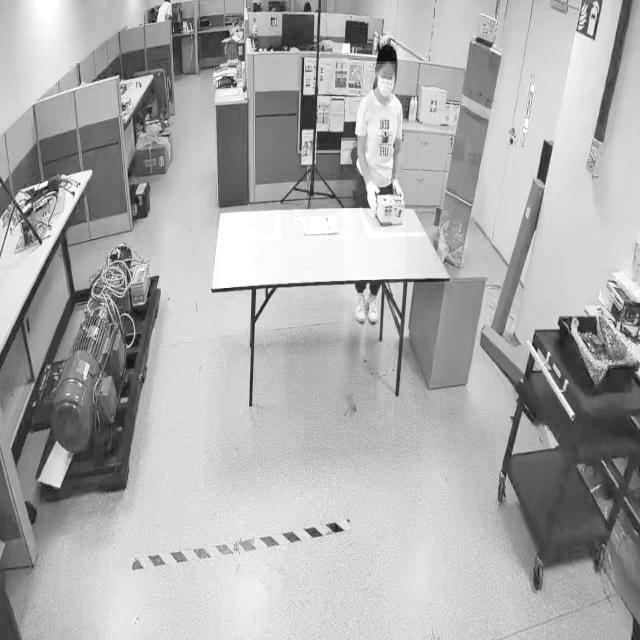face_mask: (374, 64, 396, 106)
hand_glove: (365, 178, 379, 221), (391, 169, 405, 203)
head_nohelmet: (376, 44, 398, 62)
person: (342, 44, 406, 338)
shoes: (346, 284, 369, 328), (365, 285, 382, 330)
